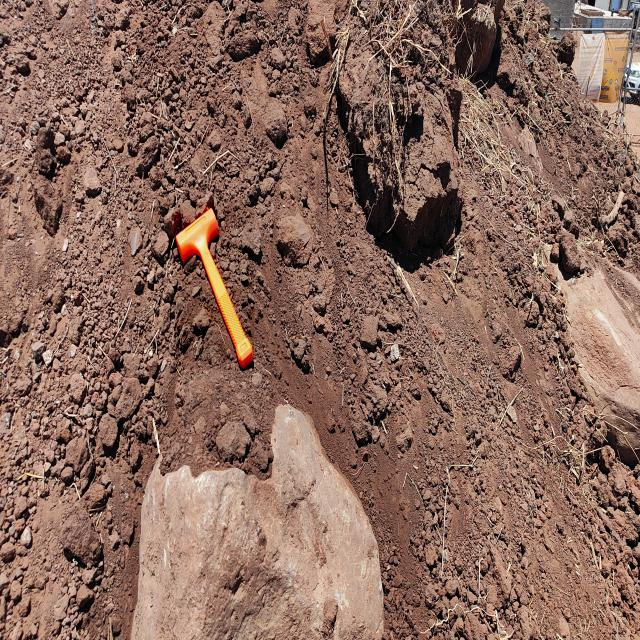Orange_hammer: (174, 202, 254, 370)
